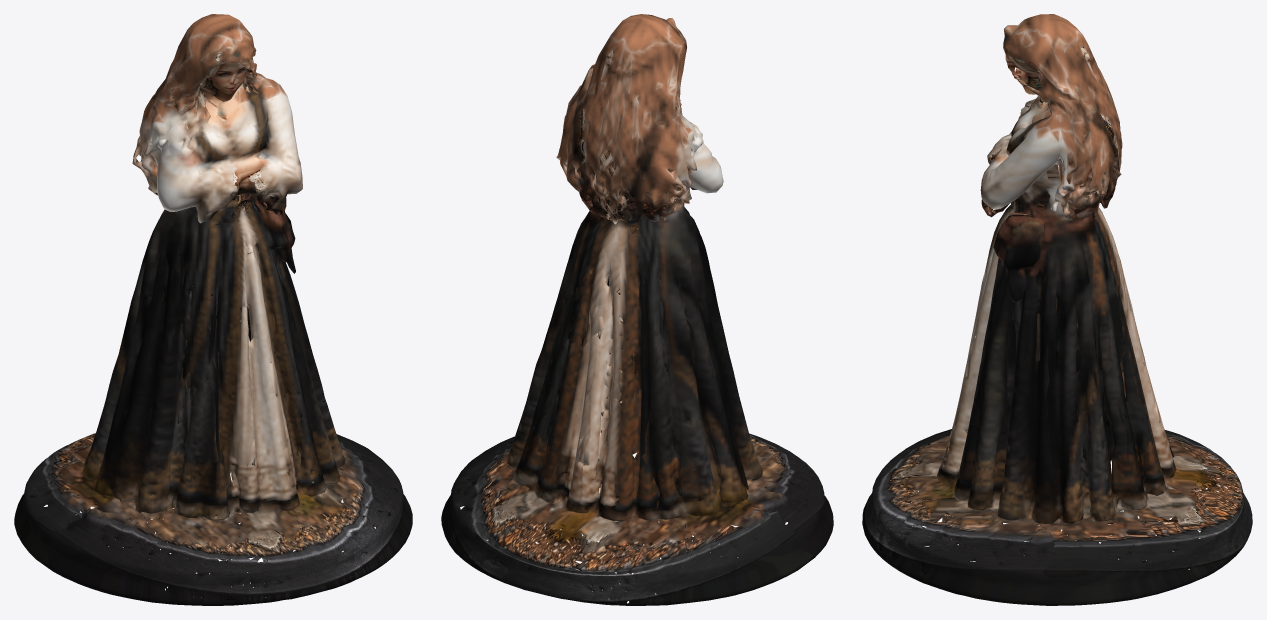
The model's file is moca_cabelo_castanho.glb.
3 renders of one model, left to right at view 1: azimuth 30°, elevation 25°; view 2: azimuth 150°, elevation 25°; view 3: azimuth 270°, elevation 25°, orthographic.
Parts seen in each view (by area): view 1: tmposvopeh6.ply; view 2: tmposvopeh6.ply; view 3: tmposvopeh6.ply.
Part boxes in pixels (<box>): tmposvopeh6.ply: <box>14,14,412,605</box>; tmposvopeh6.ply: <box>441,14,833,605</box>; tmposvopeh6.ply: <box>862,14,1252,605</box>.
Size of the model in its own units: 1.39 by 1.96 by 1.37.
5 materials, 5 textured.
